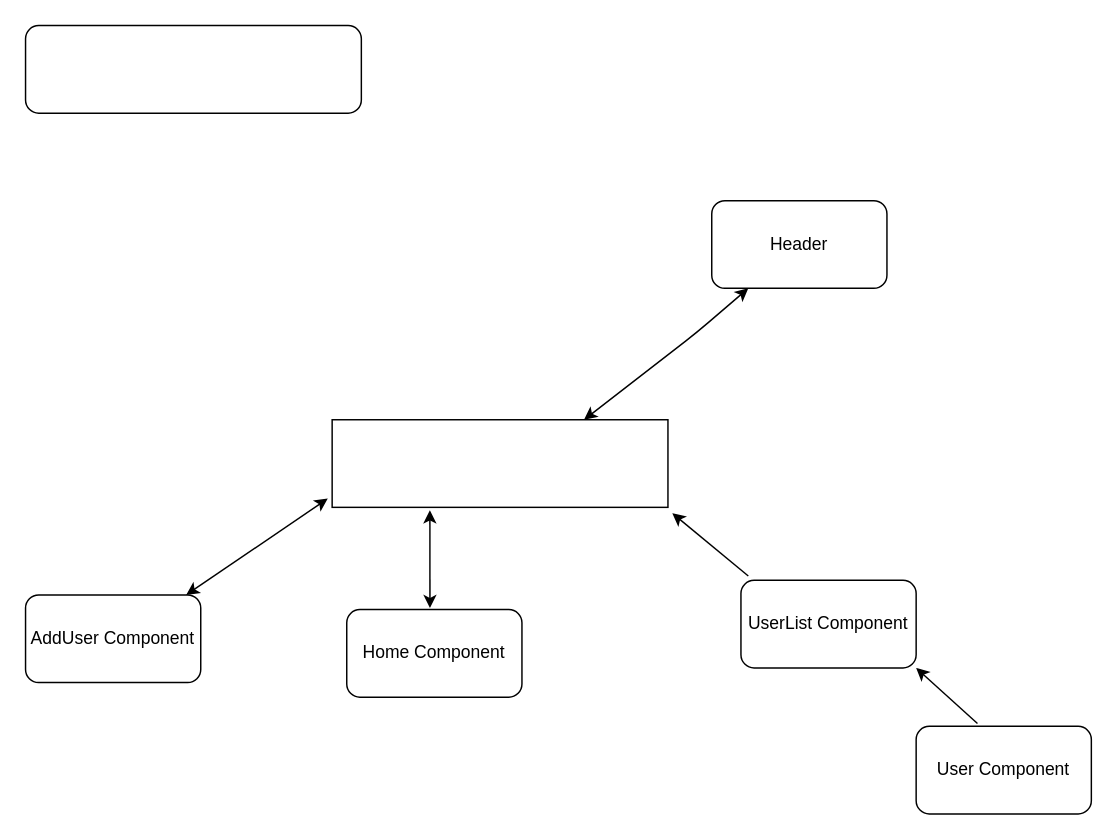
This 1117x840 diagram has some shape labels left out. Here are the shapes that lost their labels. From the top down, the box of each, then its label:
(24, 24, 361, 113): Component Tree Lay-out Tamagotchi Project
(331, 418, 668, 507): App Component
